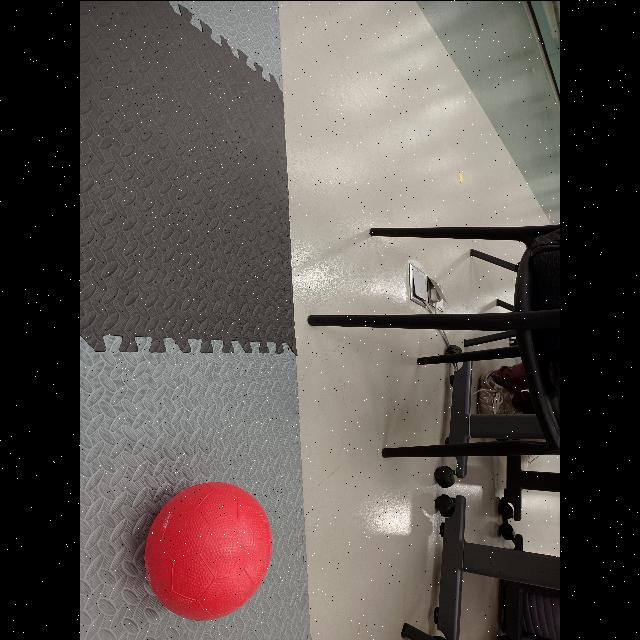R: (144, 480, 272, 620)
